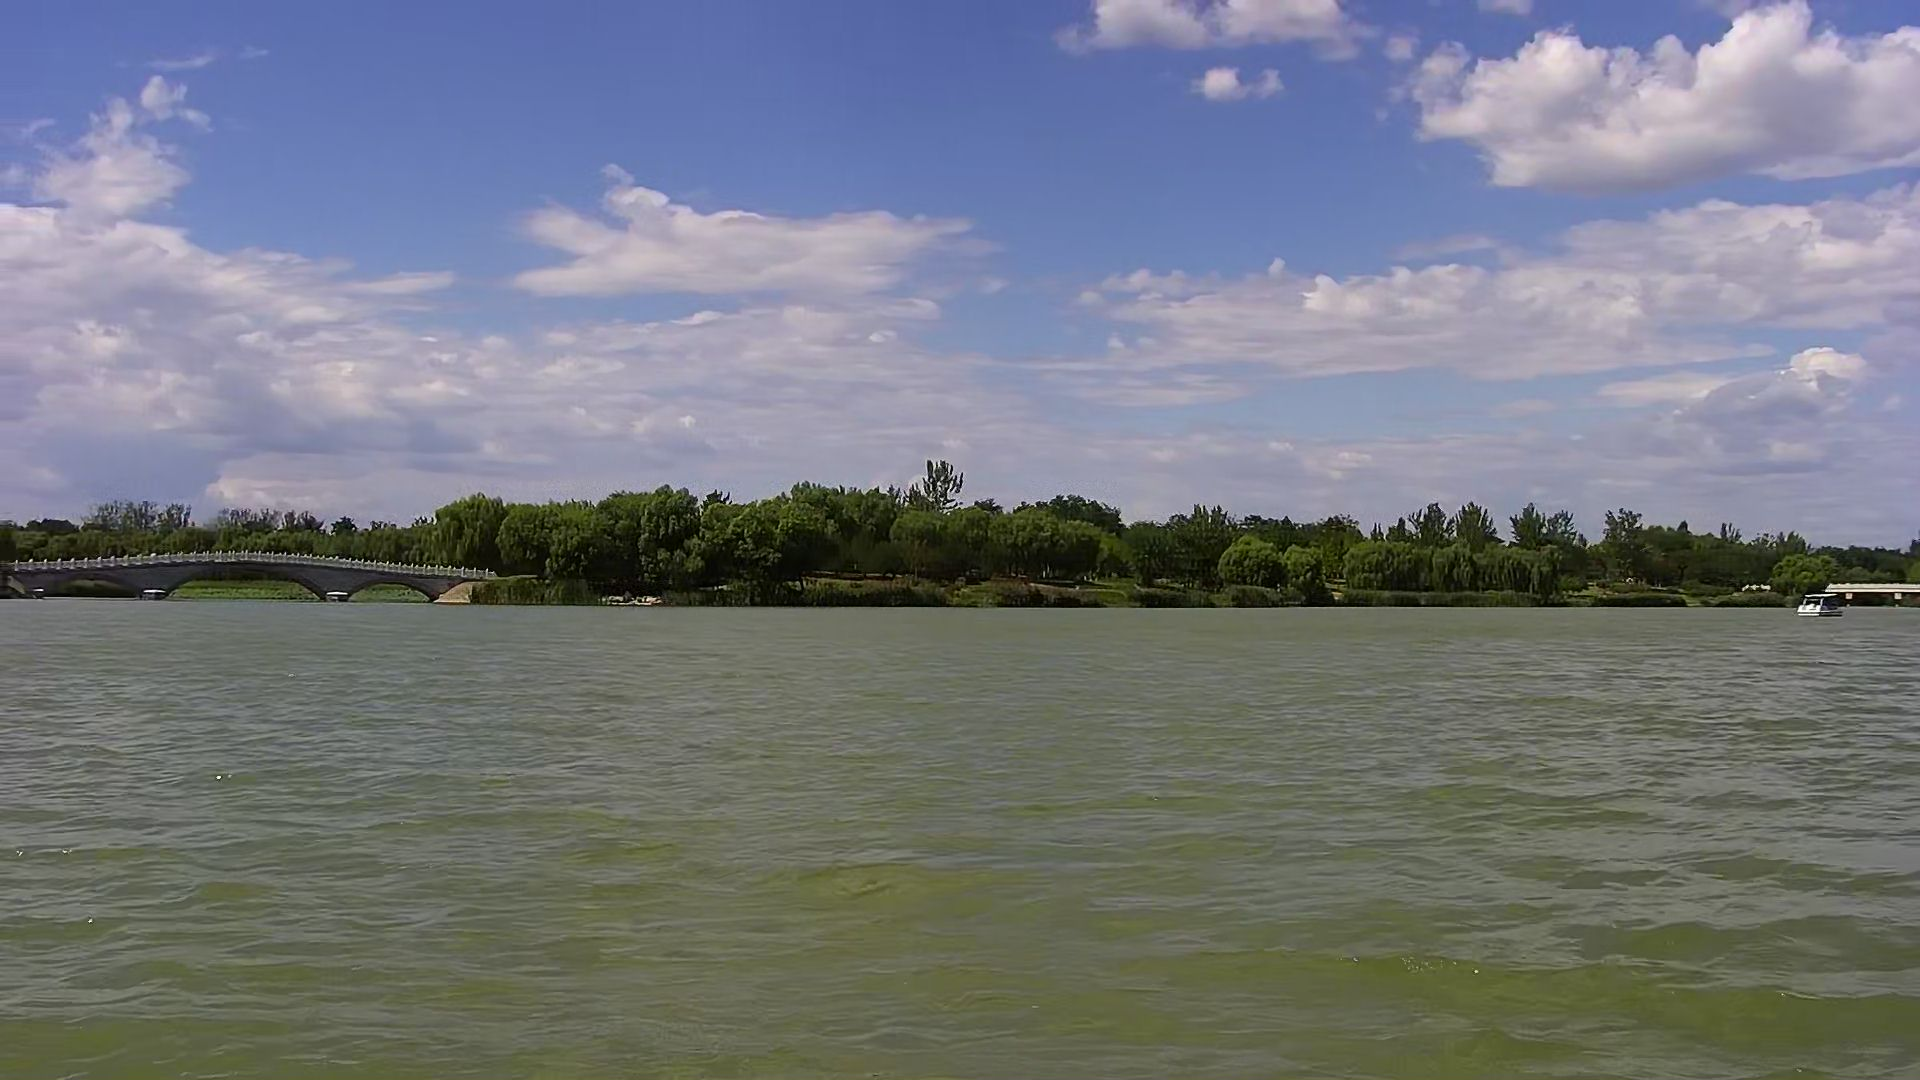boat: (1793, 585, 1850, 626)
bridge: (1, 553, 491, 597)
